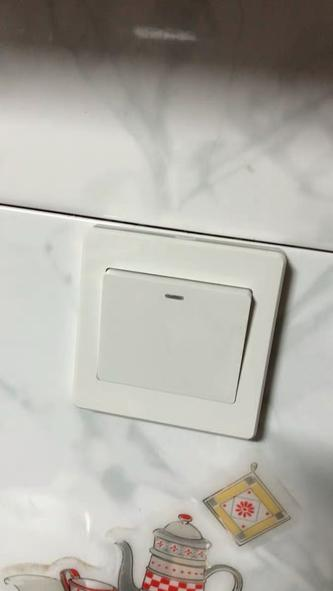switch: (91, 253, 258, 411)
